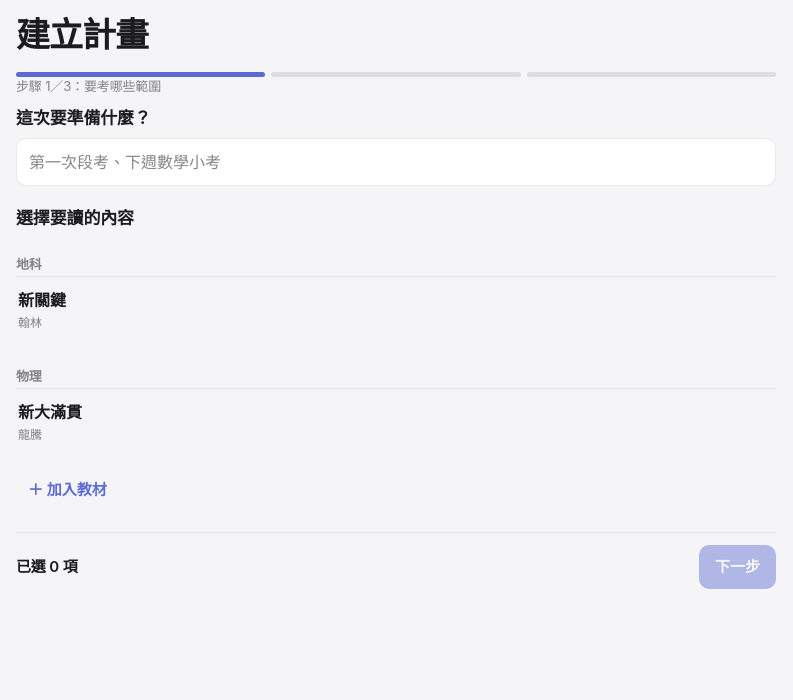
三步驟結構 › 3. 勾了內容才進得了第 2 步「要怎麼安排」
Click the button "新大滿貫 龍騰".
click(50, 412)  # box [16, 388, 776, 456]
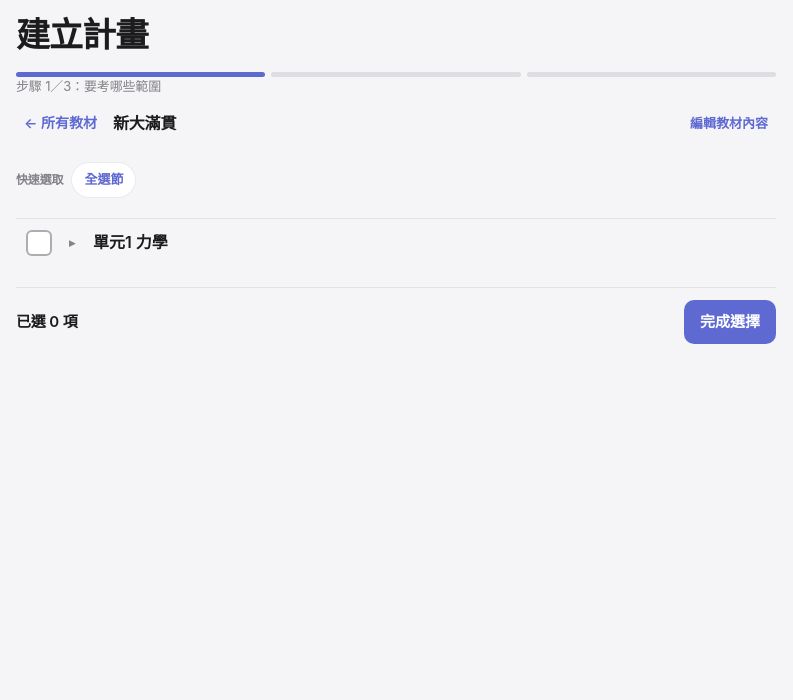
Click the checkbox named "單元1 力學（整章）".
click(39, 243)  # box [17, 221, 61, 265]
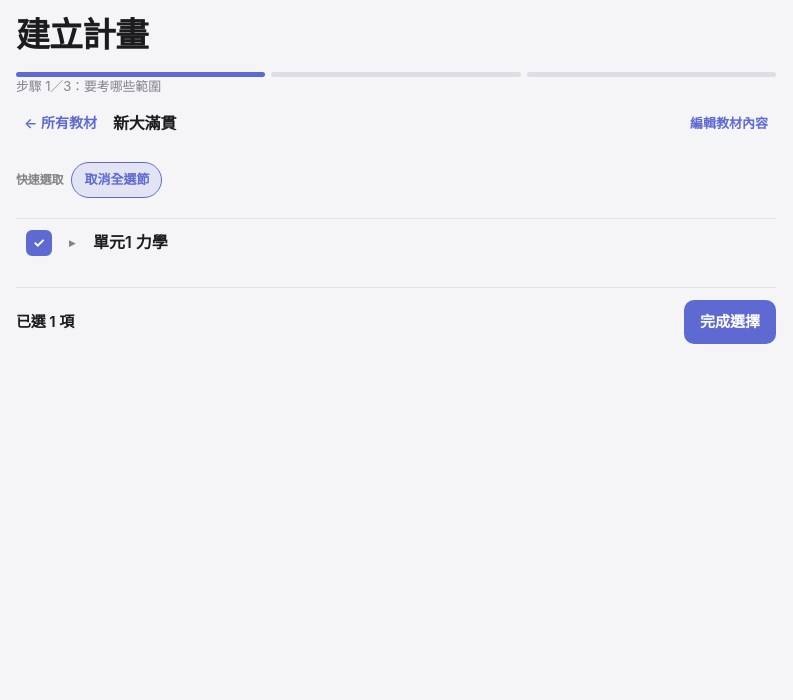
Click the button "完成選擇".
click(730, 322)  # box [684, 300, 776, 344]
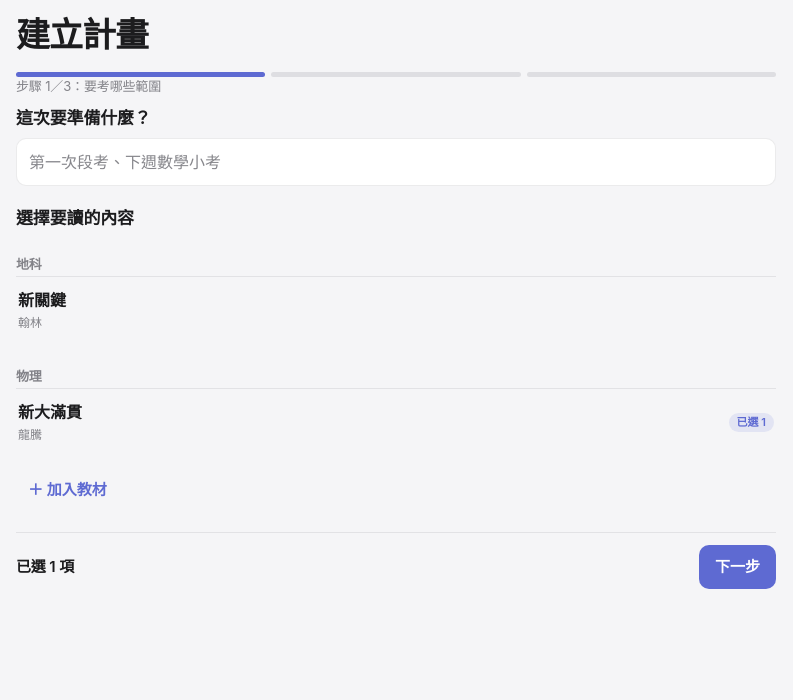
Click the button "下一步".
click(738, 567)  # box [699, 545, 776, 589]
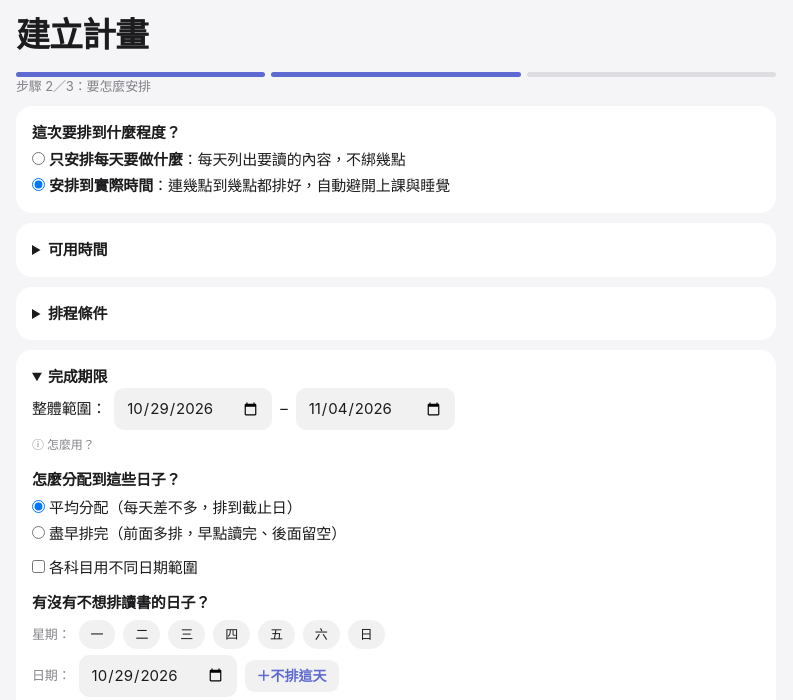
Check: the text "步驟 2／3：要怎麼安排" is shown, box [16, 78, 151, 94]
